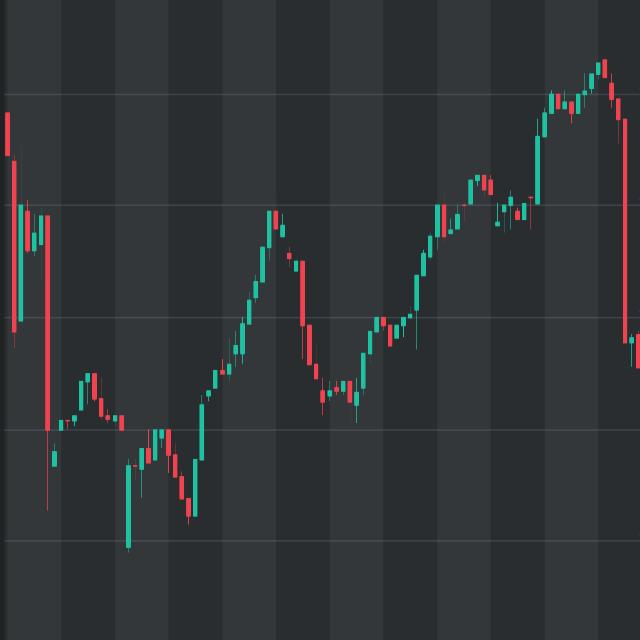Channel-up: (167, 31, 632, 640)
